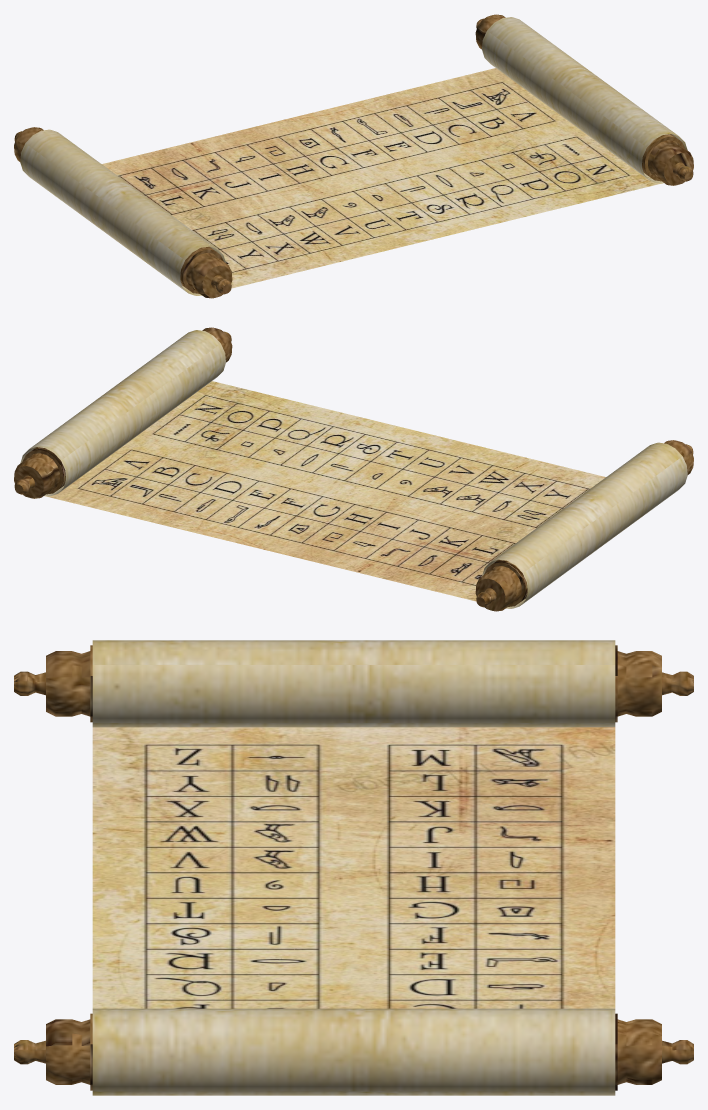
Rendered from Puzzle 2 Cipher Scroll.fbx.
The picture shows the model from 3 angles, top to bottom: view 1: azimuth 30°, elevation 25°; view 2: azimuth 150°, elevation 25°; view 3: azimuth 270°, elevation 25°; orthographic projection. The views are drawn at different scales.
Visible parts, largest first — view 1: Puzzle 2 Cipher Scroll; view 2: Puzzle 2 Cipher Scroll; view 3: Puzzle 2 Cipher Scroll.
Part boxes in pixels (x1,y1,x2,y2): Puzzle 2 Cipher Scroll: (14,14,693,298); Puzzle 2 Cipher Scroll: (14,327,693,611); Puzzle 2 Cipher Scroll: (14,640,693,1095).
Size of the model in its own units: 81.16 by 7.36 by 57.6.
